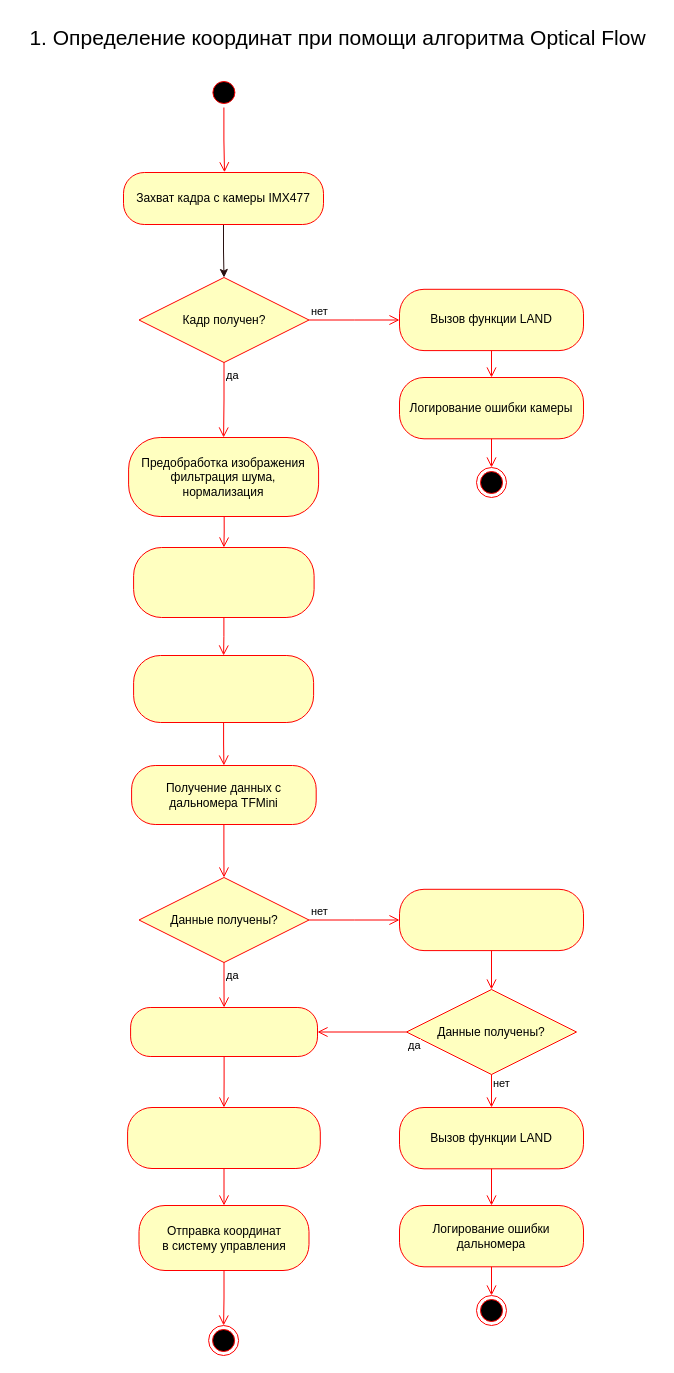
The diagram is 674 pixels wide and 1373 high, and some of its shapes have lost their labels. Here are the shapes that lost their labels. From the top down, the centre of each, then its label:
(223,582): Применение алгоритма Optical Flow
(223,688): Расчет относительного смещения по осям X, Y
(491,919): Запрос на получение данных с барометра ПК
(224,1031): Интеграция данных: координаты + высота
(223,1137): Расчет абсолютных координат в локальной СК
